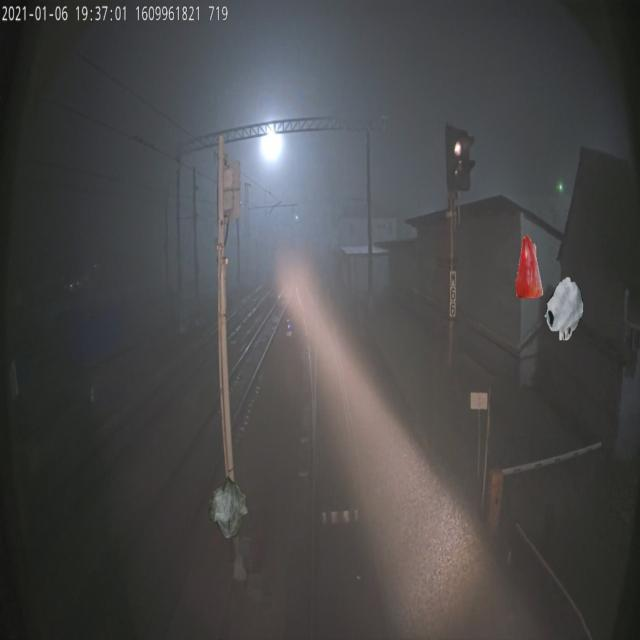plastic bag: (208, 474, 248, 538), (544, 276, 584, 340), (515, 234, 543, 298)
